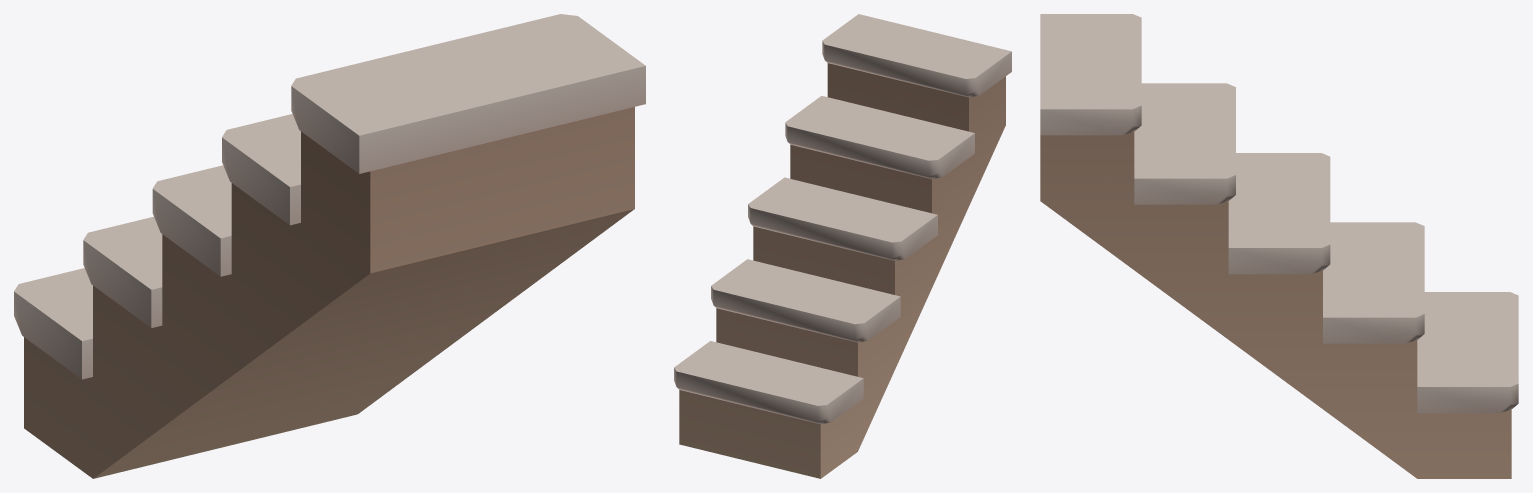
Rendered from stairs-slanted-half.glb.
3 views of the same model, side by side, from view 1: azimuth 30°, elevation 25°; view 2: azimuth 150°, elevation 25°; view 3: azimuth 270°, elevation 25° (orthographic). The views are drawn at different scales.
Parts seen in each view (by area): view 1: stairs-slanted-half; view 2: stairs-slanted-half; view 3: stairs-slanted-half.
Boxes of the visible parts, x1,y1,x2,y2 form: stairs-slanted-half: (14,14,645,478); stairs-slanted-half: (674,14,1011,478); stairs-slanted-half: (1040,14,1518,478).
Bounding box in the file's own units: 0.6514 × 1.19 × 1.38.
